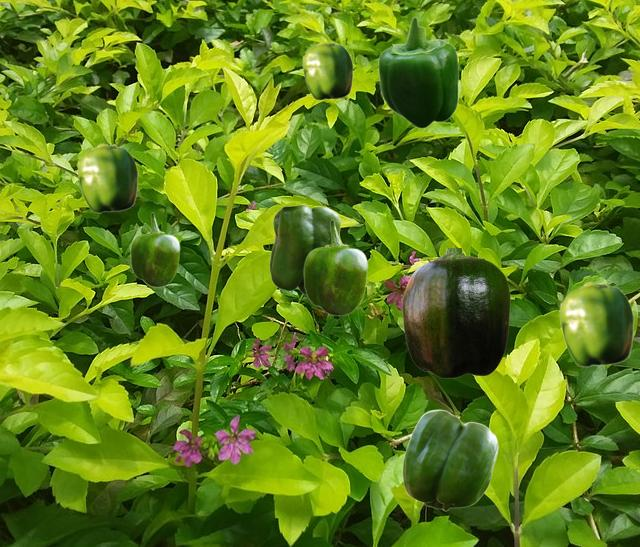bell_pepper: (402, 248, 509, 377), (402, 409, 497, 510), (377, 16, 458, 128), (269, 204, 340, 294), (559, 281, 633, 366), (303, 219, 367, 315), (77, 143, 137, 212), (130, 212, 179, 286), (302, 41, 352, 99)
